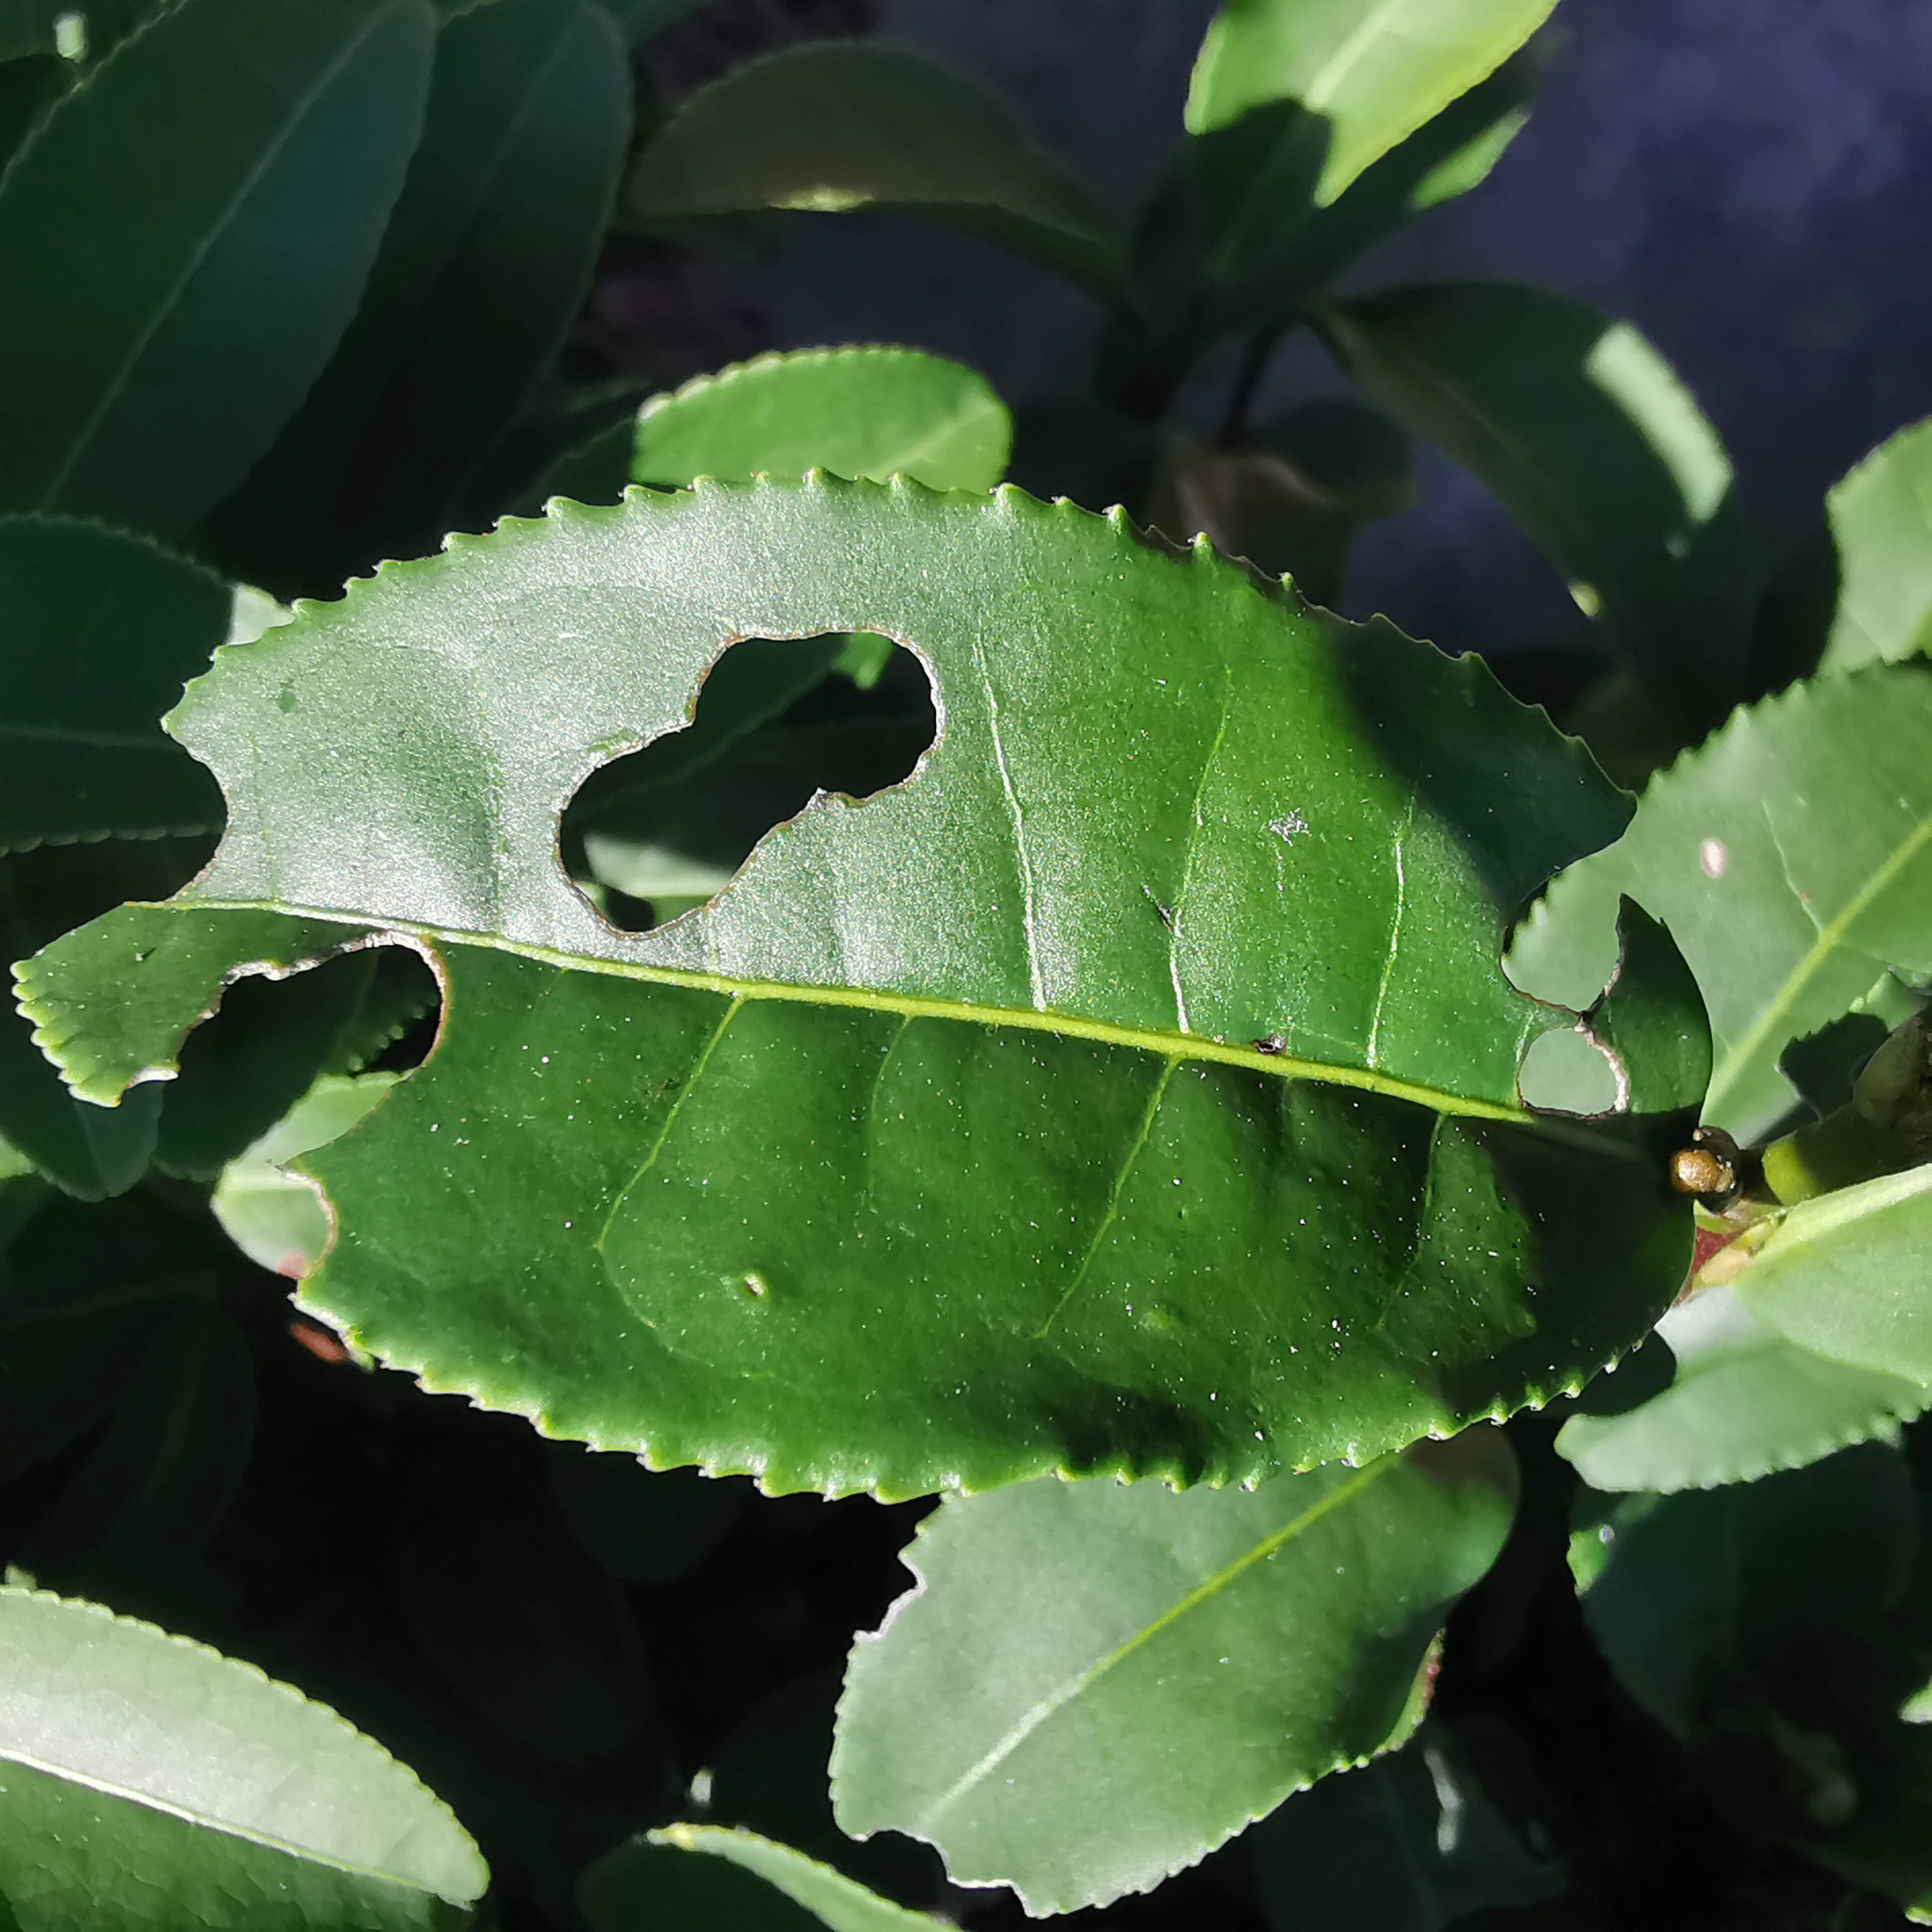chihuo_high: (11, 465, 1714, 1507), (828, 1484, 1562, 1920)
healthy: (9, 4, 439, 536), (4, 1582, 495, 1916)
